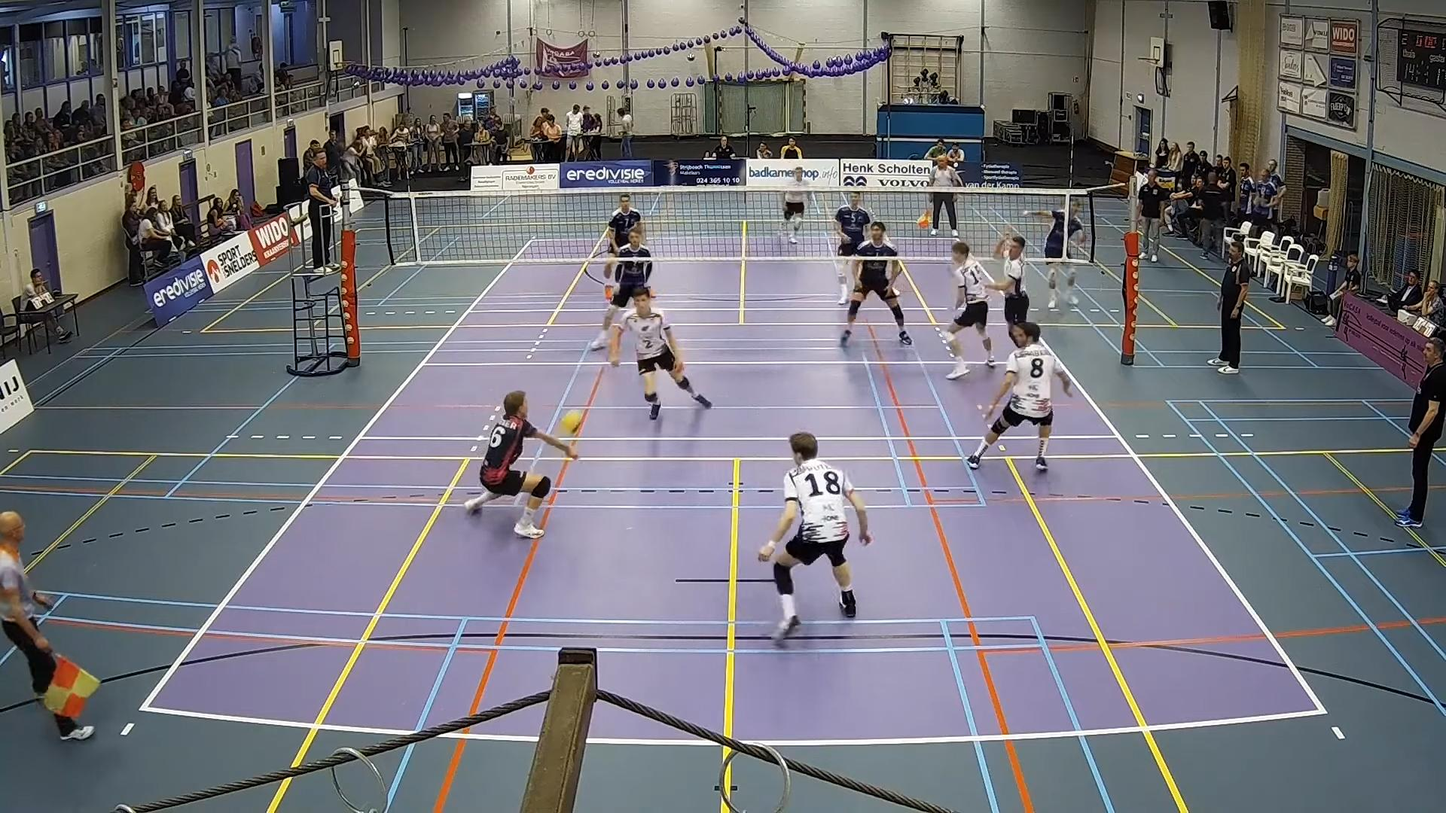difesa: (458, 383, 588, 534)
